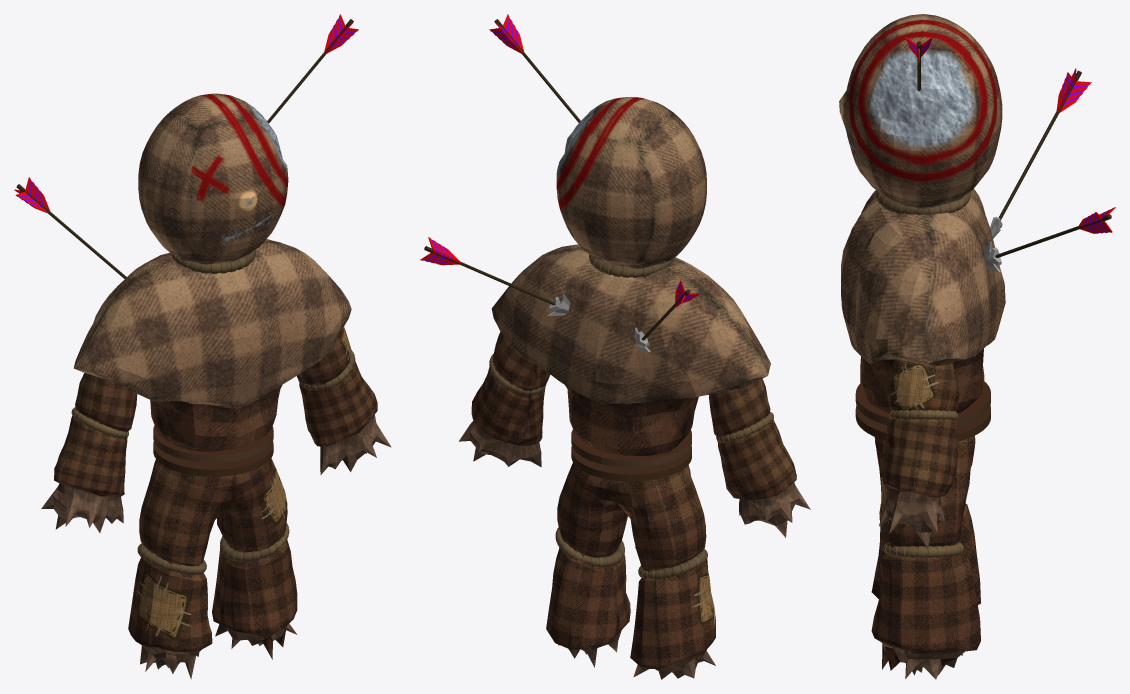
File: Dummy.glb
3 renders of one model, left to right at view 1: azimuth 30°, elevation 25°; view 2: azimuth 150°, elevation 25°; view 3: azimuth 270°, elevation 25°, orthographic. The views are drawn at different scales.
Parts seen in each view (by area): view 1: RetopoCloak, RetopoLegs, RetopoHead, RetopoHand, Cylinder.007, Cylinder.008, Torus.003, Arrow.002, Arrow, Torus.002, Torus.001; view 2: RetopoCloak, RetopoLegs, RetopoHead, RetopoHand, Cylinder.007, Cylinder.008, Torus.003, Arrow.001, Arrow, Torus.002, Torus.001, Arrow.002; view 3: RetopoCloak, RetopoHead, RetopoLegs, RetopoHand, Arrow.002, Arrow.001, Cylinder.008, Cylinder.007, Torus.003, Torus.001, Torus.002, Arrow.
Boxes of the visible parts, x1,y1,x2,y2 form: RetopoCloak: [73, 239, 351, 451]; RetopoLegs: [128, 458, 297, 679]; RetopoHead: [138, 93, 288, 264]; RetopoHand: [41, 327, 391, 532]; Cylinder.007: [153, 441, 273, 476]; Cylinder.008: [153, 425, 273, 462]; Torus.003: [137, 523, 289, 574]; Arrow.002: [14, 177, 126, 278]; Arrow: [267, 14, 358, 123]; Torus.002: [71, 350, 355, 438]; Torus.001: [171, 249, 255, 273]; RetopoCloak: [491, 244, 770, 455]; RetopoLegs: [546, 462, 715, 679]; RetopoHead: [556, 97, 706, 268]; RetopoHand: [459, 332, 810, 537]; Cylinder.007: [571, 446, 691, 481]; Cylinder.008: [571, 429, 691, 467]; Torus.003: [555, 527, 707, 578]; Arrow.001: [420, 237, 570, 315]; Arrow: [489, 14, 580, 122]; Torus.002: [489, 354, 773, 443]; Torus.001: [589, 254, 673, 277]; Arrow.002: [634, 280, 701, 352]; RetopoCloak: [841, 189, 1005, 413]; RetopoHead: [839, 14, 1002, 209]; RetopoLegs: [871, 435, 980, 679]; RetopoHand: [879, 359, 959, 549]; Arrow.002: [990, 68, 1091, 238]; Arrow.001: [983, 207, 1115, 271]; Cylinder.008: [855, 381, 990, 425]; Cylinder.007: [855, 405, 990, 441]; Torus.003: [883, 542, 963, 558]; Torus.001: [875, 190, 971, 214]; Torus.002: [888, 410, 958, 419]; Arrow: [905, 37, 932, 90].
Size of the model in its own units: 1.15 by 2.01 by 0.7382.
5 materials, 1 textured.
